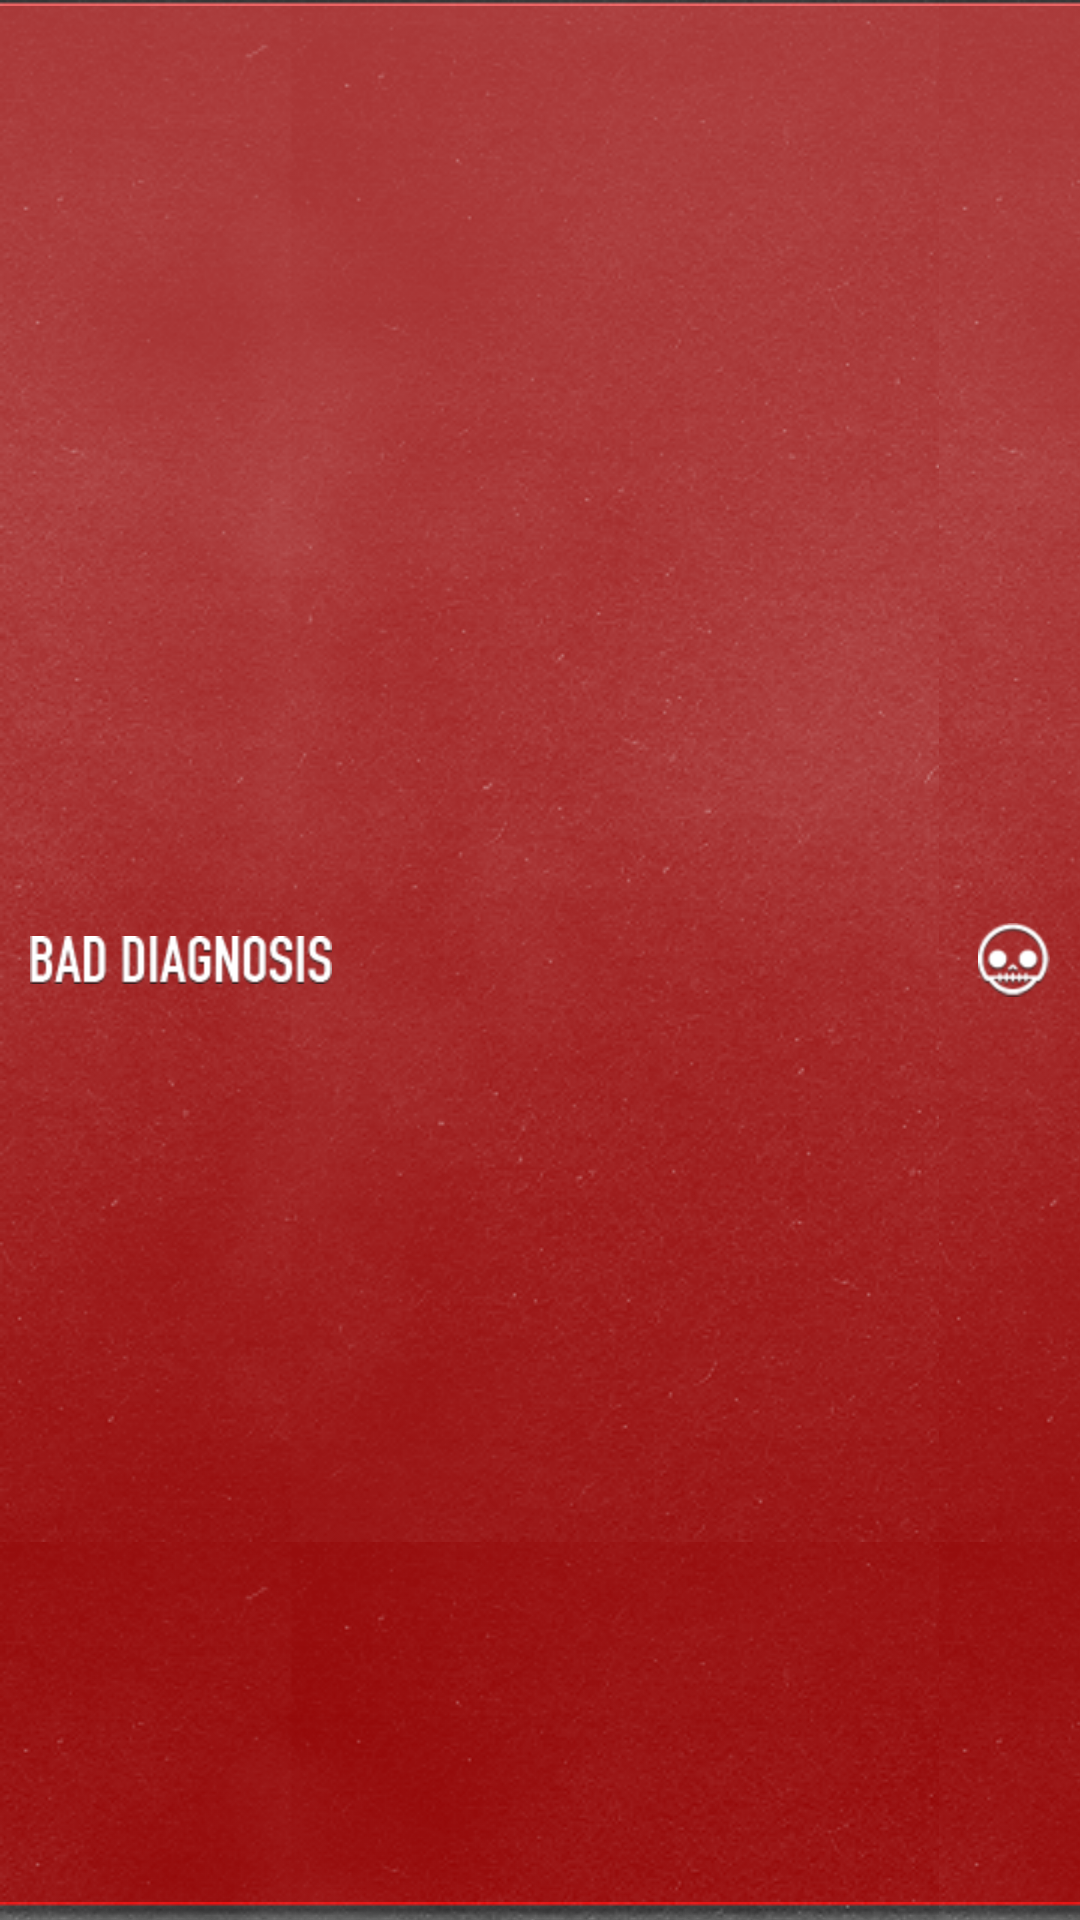

Screen size 1080x1920. Icon name, then its box in pixels as detection(x1, y1, x2, y2):
skull: detection(978, 923, 1050, 997)
